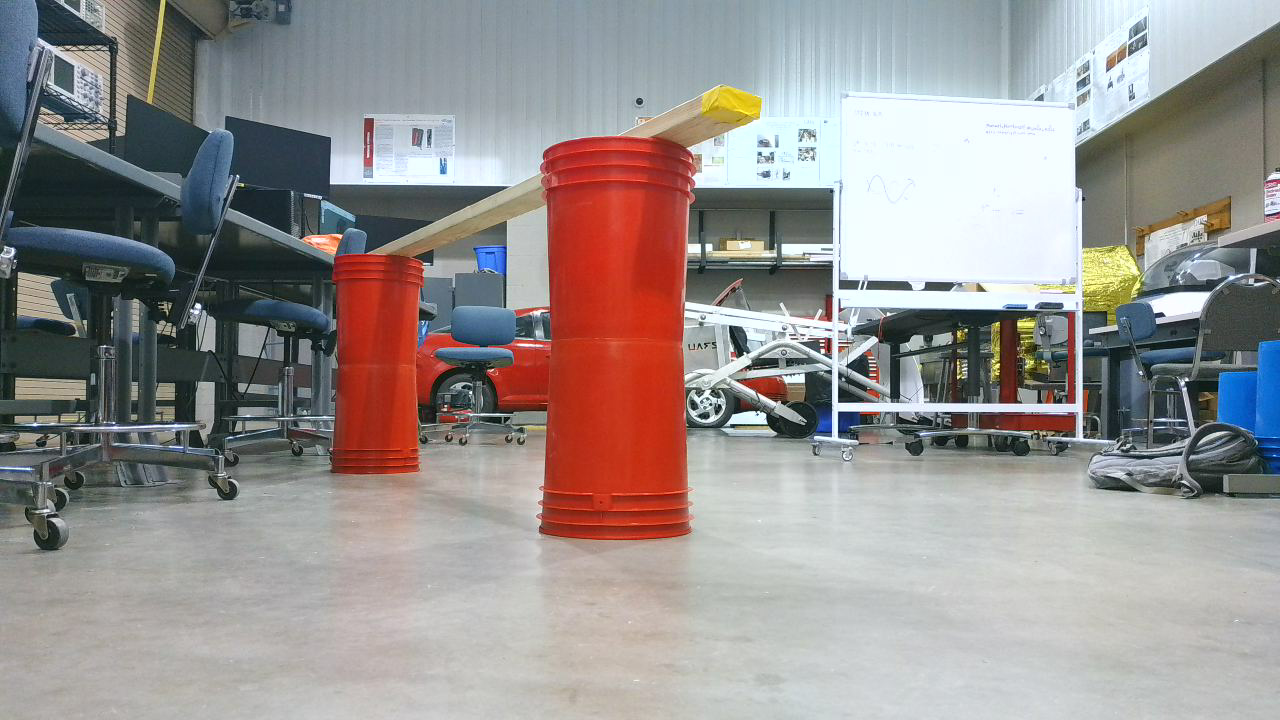red_bucket_arch: (331, 86, 778, 552)
